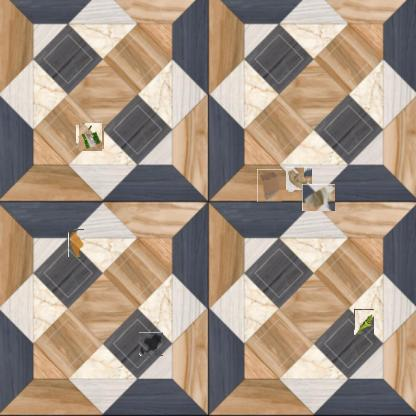dirty: (302, 184, 335, 211), (257, 169, 282, 202), (77, 124, 103, 150), (287, 167, 312, 191), (354, 309, 375, 335)
liquid: (140, 332, 163, 356), (68, 229, 84, 257)
